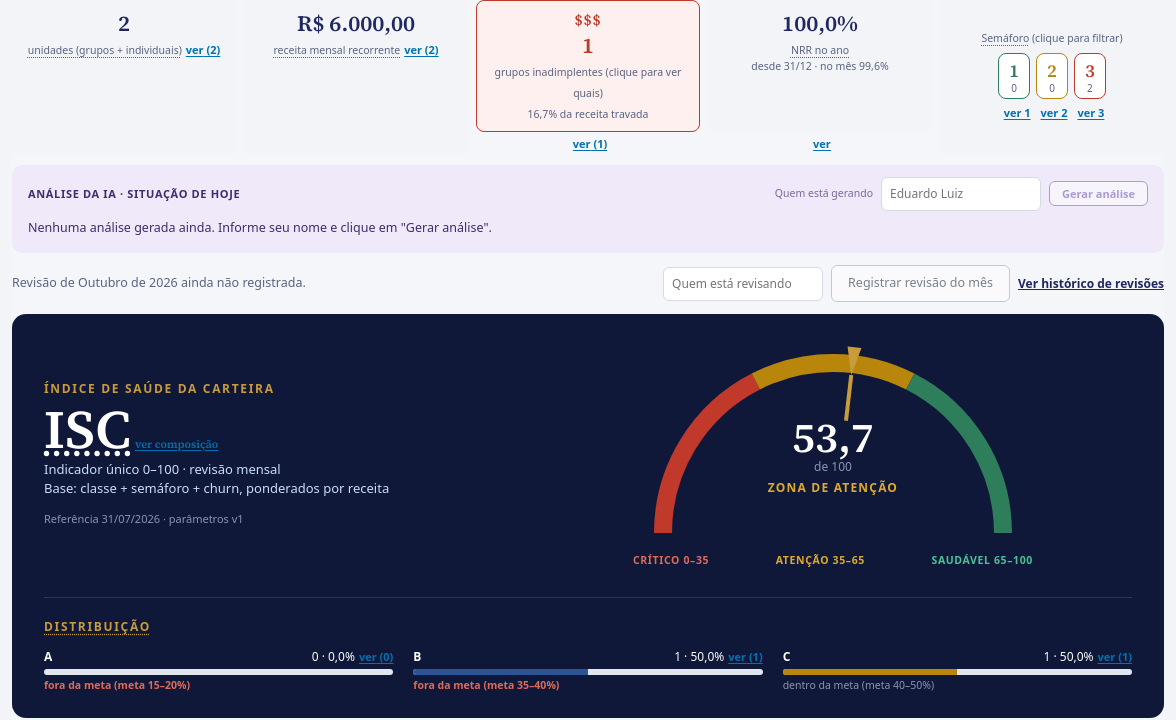
Carteira › mostra o retrato com o travado e o percentual juntos num só chip, e filtra ao clicar
Expected: the 1st text "2" is shown, [118,8,130,38]
Click the button with aria-label "grupos inadimplentes, 16,7% da receita travada" at (588, 66), box [476,0,700,132]
(page scrolled)
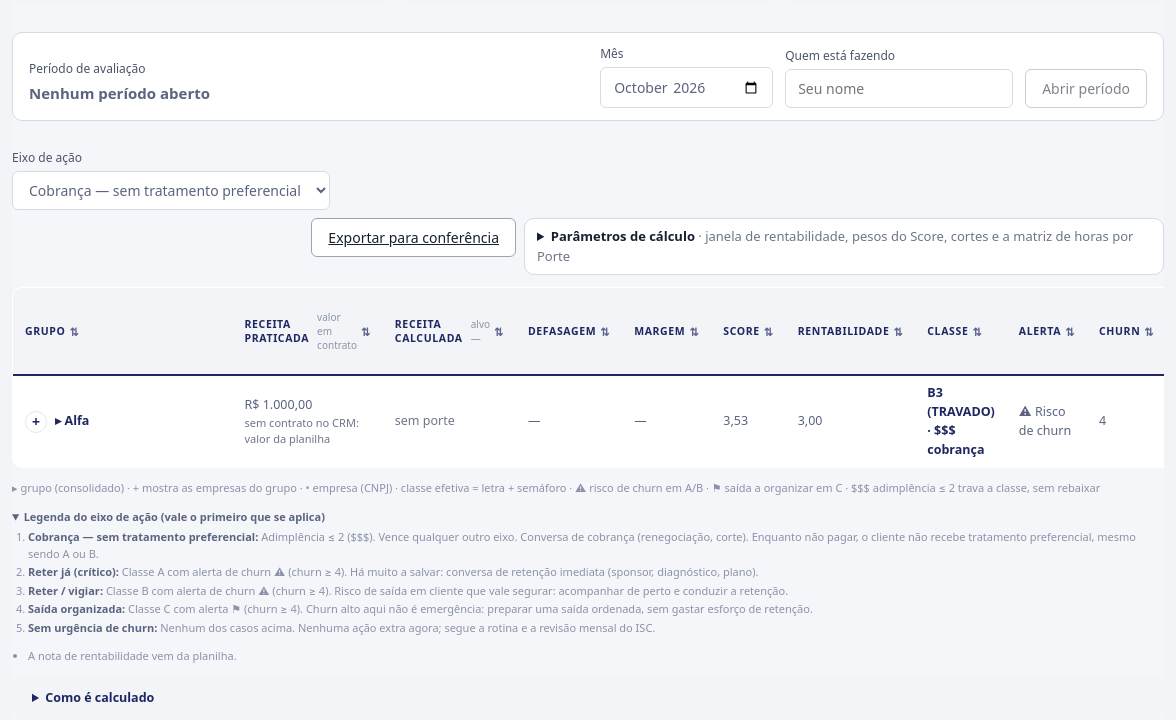
Expected: the dropdown labelled "Eixo de ação" shows "Cobrança — sem tratamento preferencial", [12,171,330,210]
